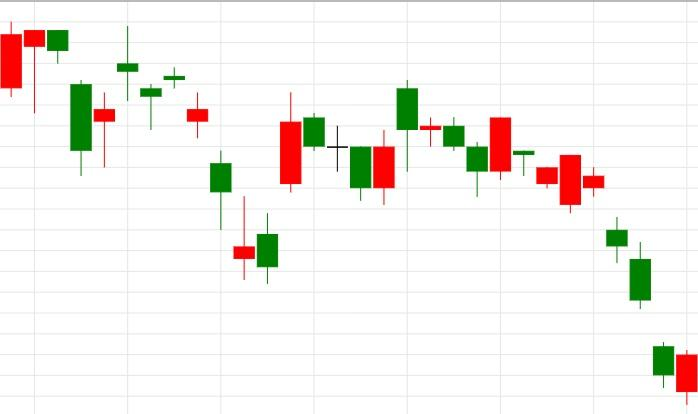bullish_engulfing_rise: (279, 92, 395, 205)
